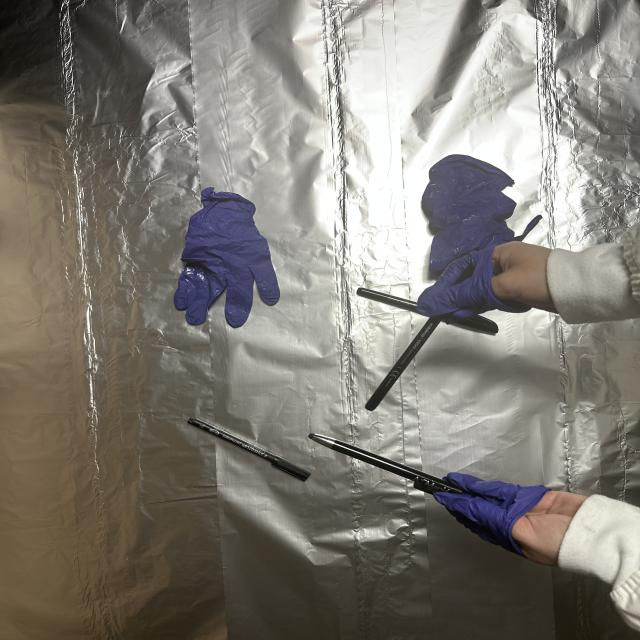glove_partial: (424, 468, 590, 562), (416, 240, 563, 320)
